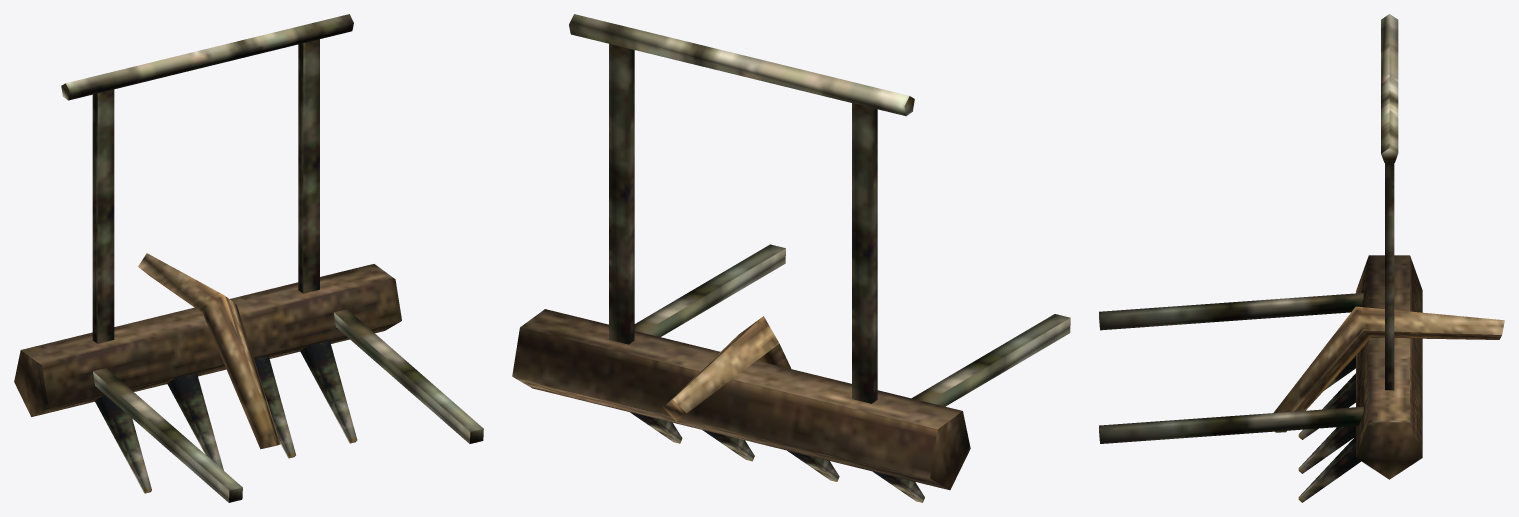
Rendered from b_general_obj_11.fbx.
The picture shows the model from 3 angles, left to right: view 1: azimuth 30°, elevation 25°; view 2: azimuth 150°, elevation 25°; view 3: azimuth 270°, elevation 25°; orthographic projection. The views are drawn at different scales.
Visible parts, largest first — view 1: Object07; view 2: Object07; view 3: Object07.
Part boxes in pixels (x1=…): Object07: x1=14, y1=14, x2=483, y2=502; Object07: x1=512, y1=14, x2=1070, y2=502; Object07: x1=1099, y1=14, x2=1504, y2=502.
Bounding box in the file's own units: 1.39 × 1.45 × 1.43.
